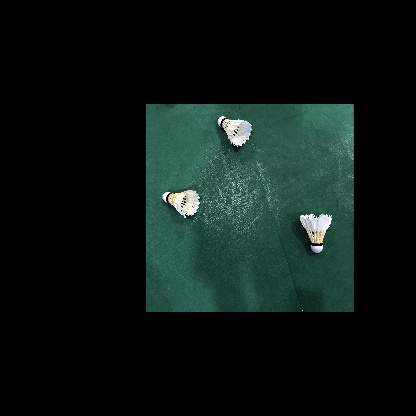ball_single: (300, 214, 332, 253), (162, 190, 200, 218), (218, 116, 252, 147)
